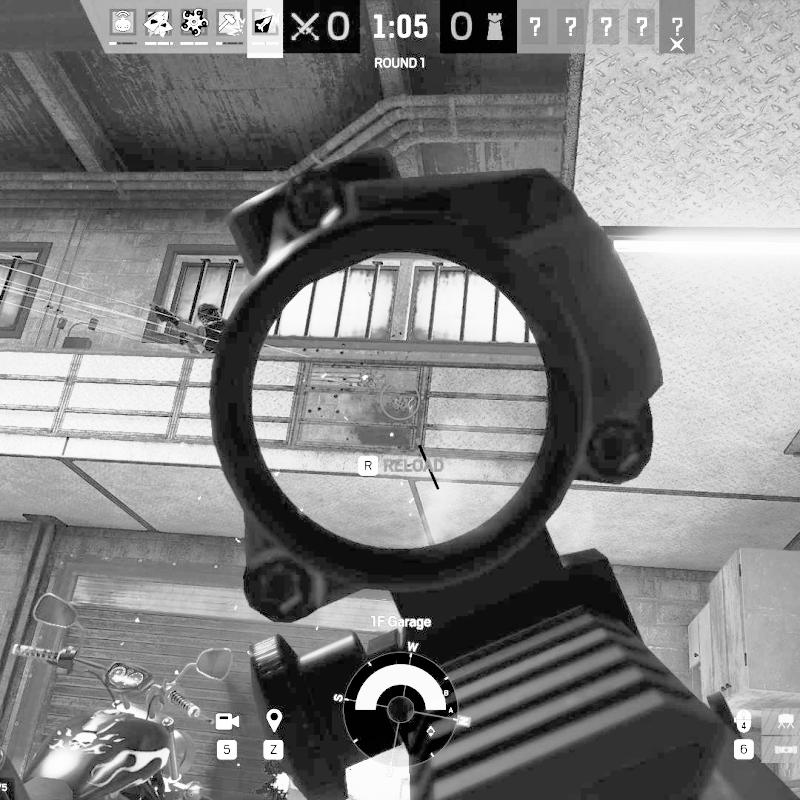Character: (147, 299, 227, 357)
Head: (197, 302, 222, 326)
